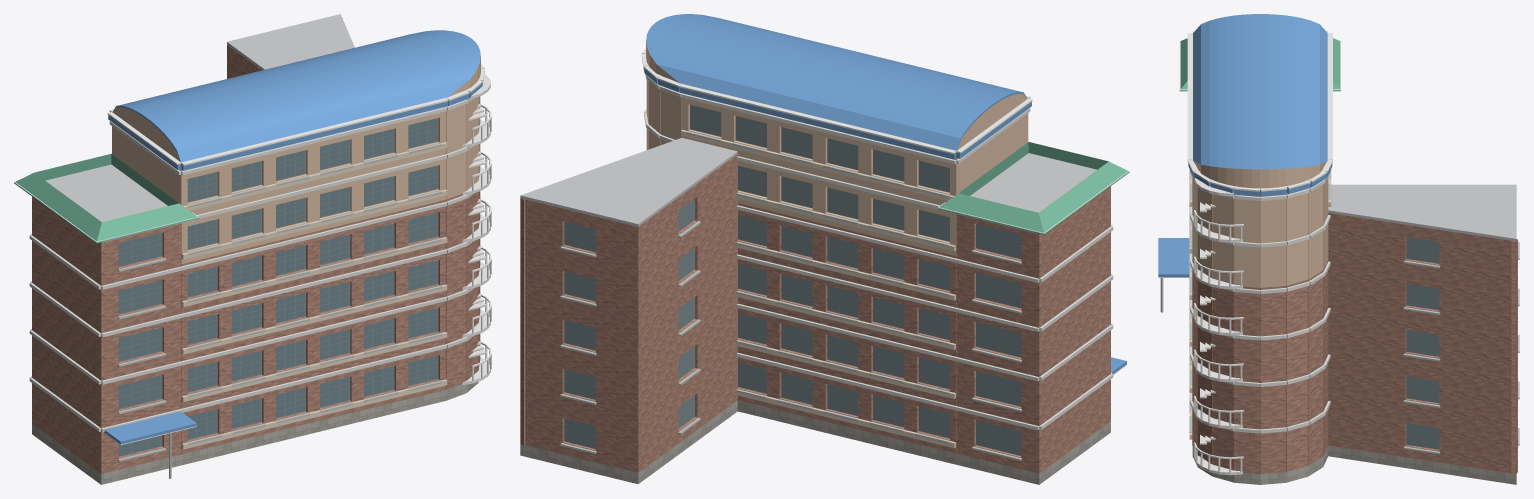
3 views of the same model, side by side, from view 1: azimuth 30°, elevation 25°; view 2: azimuth 150°, elevation 25°; view 3: azimuth 270°, elevation 25° (orthographic). The views are drawn at different scales.
Visible parts, largest first — view 1: science-wing__brick, science-wing__glass, science-wing__blue, science-wing__terracotta, science-wing__band, science-wing__frame, science-wing__roof, science-wing__sandband, science-wing__sill, science-wing__canopy, science-wing__stone, science-wing__cap (+1 smaller); view 2: science-wing__brick, science-wing__sideglass, science-wing__blue, science-wing__terracotta, science-wing__roof, science-wing__frame, science-wing__band, science-wing__stone, science-wing__sill, science-wing__sandband, science-wing__canopy, science-wing__cap; view 3: science-wing__brick, science-wing__blue, science-wing__terracotta, science-wing__roof, science-wing__cap, science-wing__stone, science-wing__sideglass, science-wing__band, science-wing__panel, science-wing__sill, science-wing__frame, science-wing__canopy.
Boxes of the visible parts, x1=… form: science-wing__brick: x1=32, y1=18, x2=480, y2=473; science-wing__glass: x1=118, y1=118, x2=437, y2=455; science-wing__blue: x1=104, y1=30, x2=482, y2=444; science-wing__terracotta: x1=112, y1=56, x2=480, y2=264; science-wing__band: x1=29, y1=98, x2=473, y2=432; science-wing__frame: x1=118, y1=118, x2=438, y2=456; science-wing__roof: x1=45, y1=14, x2=354, y2=221; science-wing__sandband: x1=181, y1=142, x2=447, y2=449; science-wing__sill: x1=118, y1=143, x2=442, y2=461; science-wing__canopy: x1=14, y1=153, x2=199, y2=243; science-wing__stone: x1=32, y1=381, x2=478, y2=484; science-wing__cap: x1=14, y1=64, x2=491, y2=445; science-wing__brick: x1=520, y1=154, x2=1110, y2=473; science-wing__sideglass: x1=565, y1=105, x2=1021, y2=454; science-wing__blue: x1=642, y1=14, x2=1126, y2=373; science-wing__terracotta: x1=646, y1=41, x2=1028, y2=256; science-wing__roof: x1=520, y1=138, x2=1096, y2=226; science-wing__frame: x1=564, y1=105, x2=1021, y2=455; science-wing__band: x1=644, y1=74, x2=1113, y2=430; science-wing__stone: x1=520, y1=400, x2=1110, y2=484; science-wing__sill: x1=560, y1=131, x2=1021, y2=460; science-wing__sandband: x1=681, y1=130, x2=955, y2=448; science-wing__canopy: x1=938, y1=142, x2=1129, y2=234; science-wing__cap: x1=641, y1=48, x2=1128, y2=374; science-wing__brick: x1=1192, y1=213, x2=1517, y2=474; science-wing__blue: x1=1158, y1=14, x2=1332, y2=276; science-wing__terracotta: x1=1192, y1=161, x2=1328, y2=287; science-wing__roof: x1=1328, y1=184, x2=1516, y2=241; science-wing__cap: x1=1158, y1=31, x2=1340, y2=472; science-wing__stone: x1=1192, y1=445, x2=1516, y2=484; science-wing__sideglass: x1=1407, y1=237, x2=1439, y2=448; science-wing__band: x1=1190, y1=170, x2=1330, y2=433; science-wing__panel: x1=1194, y1=178, x2=1242, y2=475; science-wing__sill: x1=1189, y1=169, x2=1519, y2=454; science-wing__frame: x1=1406, y1=237, x2=1439, y2=449; science-wing__canopy: x1=1179, y1=38, x2=1340, y2=91.
Bounding box in the file's own units: 31.52 × 23.09 × 23.97.
16 materials, 2 textured.
